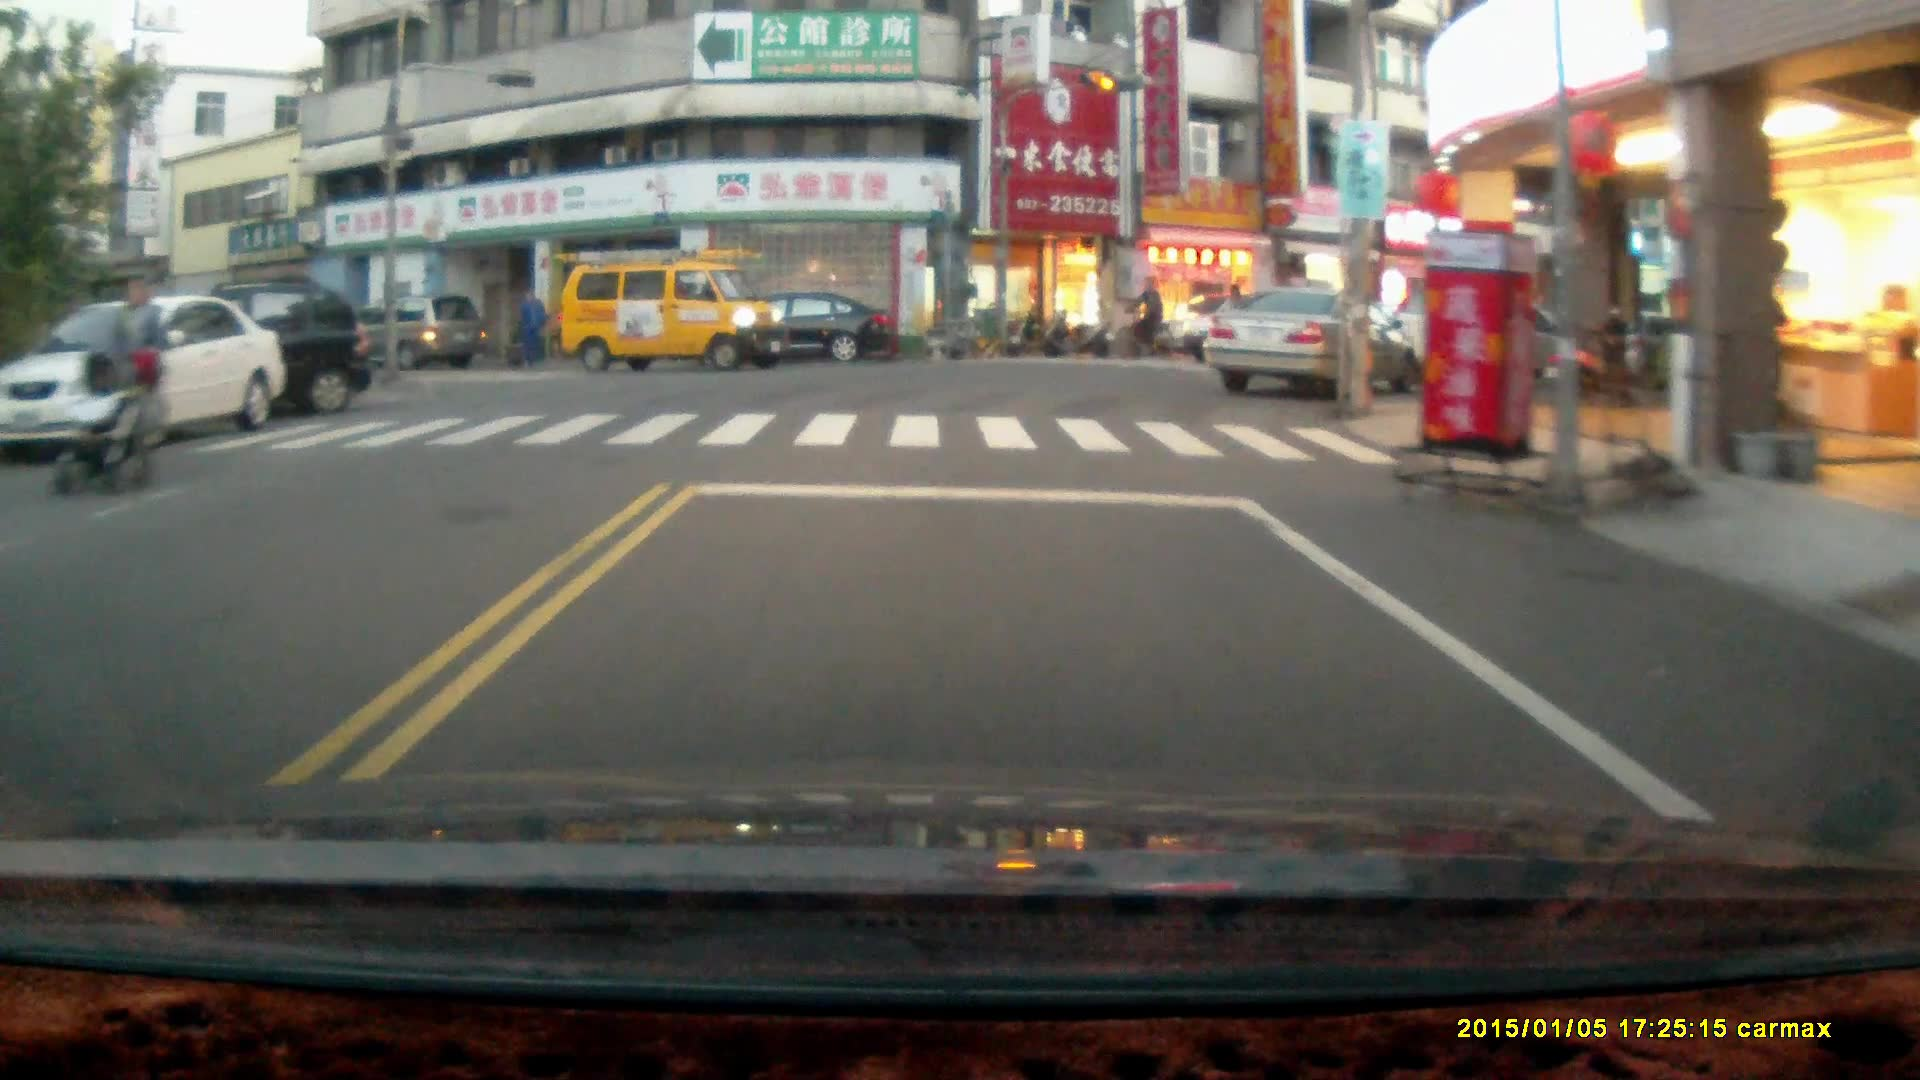pedestrian: (105, 282, 159, 469), (516, 287, 545, 367)
rider: (48, 342, 159, 499), (1110, 274, 1172, 361)
vehicle: (78, 276, 376, 418), (14, 295, 274, 452), (557, 244, 791, 372), (1203, 285, 1413, 399), (1381, 286, 1595, 395), (717, 295, 890, 370), (345, 294, 483, 373)
